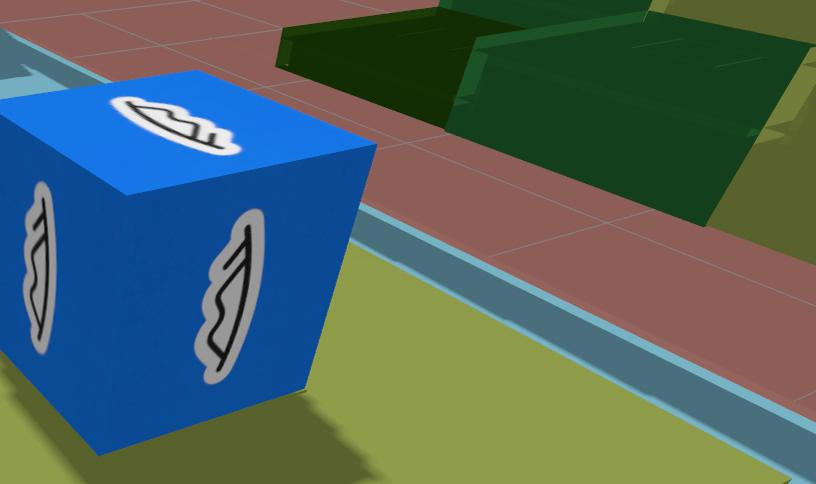KFS_REAL: (0, 70, 375, 454), (0, 0, 135, 483), (194, 209, 264, 384), (110, 95, 241, 155), (22, 181, 58, 355)
